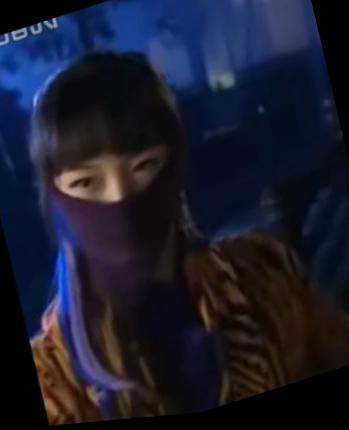WRONG: (48, 124, 197, 286)
